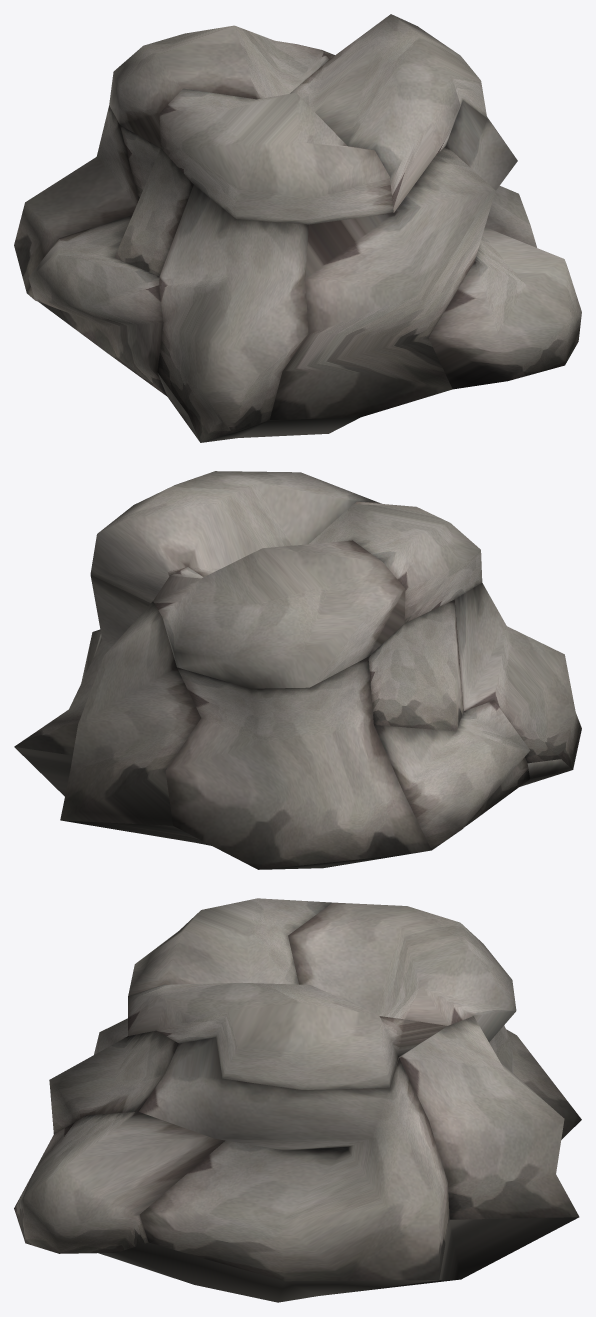
Rendered from rock_plain_4m.DAE.
3 views of the same model, one above another, from view 1: azimuth 30°, elevation 25°; view 2: azimuth 150°, elevation 25°; view 3: azimuth 270°, elevation 25° (orthographic).
Parts seen in each view (by area): view 1: Box01; view 2: Box01; view 3: Box01.
Part boxes in pixels (x1,y1,x2,y2): Box01: (14, 14, 581, 442); Box01: (14, 471, 581, 869); Box01: (14, 898, 581, 1302).
Size of the model in its own units: 6.27 by 4.21 by 6.89.
